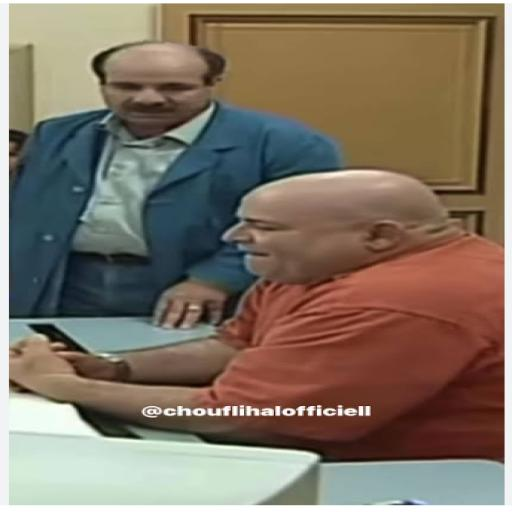beji_matrix: (92, 42, 225, 131)
sboui: (225, 170, 447, 282)
